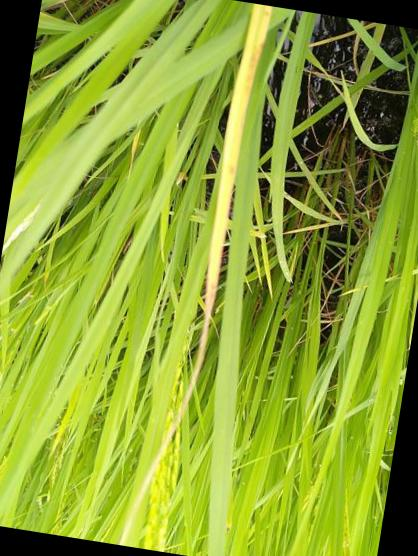Leaf Blight: (116, 3, 273, 546)
